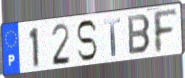1: (28, 25, 40, 69)
2: (50, 22, 71, 67)
B: (127, 13, 152, 56)
F: (151, 8, 179, 56)
S: (75, 18, 98, 63)
T: (103, 17, 122, 58)
